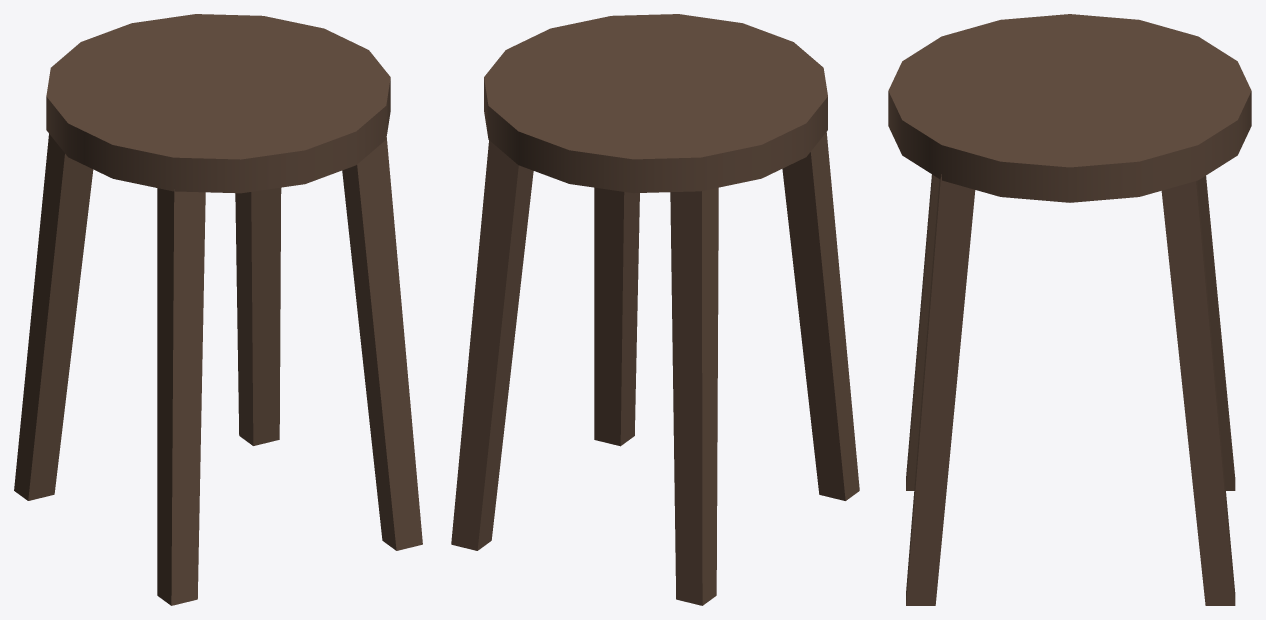
The model's file is Taburet_type2_round_01.FBX.
3 renders of one model, left to right at view 1: azimuth 30°, elevation 25°; view 2: azimuth 150°, elevation 25°; view 3: azimuth 270°, elevation 25°, orthographic. The views are drawn at different scales.
Parts seen in each view (by area): view 1: Taburet_type2_round_01; view 2: Taburet_type2_round_01; view 3: Taburet_type2_round_01.
Part boxes in pixels (box(x1,y1,x2,y2)): Taburet_type2_round_01: box(14, 14, 422, 605); Taburet_type2_round_01: box(451, 14, 859, 605); Taburet_type2_round_01: box(888, 14, 1251, 605).
Size of the model in its own units: 87.65 by 120 by 87.65.
